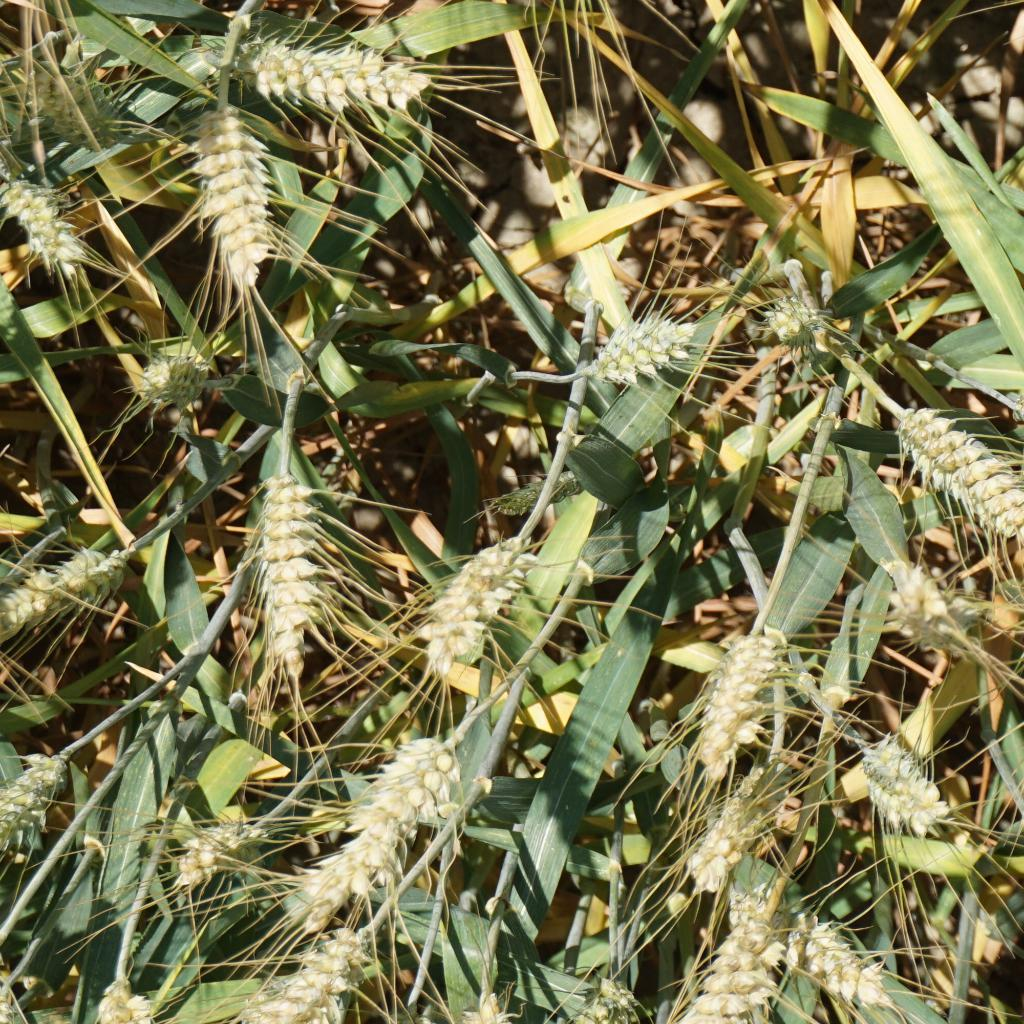0-0: (311, 747, 459, 903), (892, 401, 1024, 564), (680, 741, 805, 903), (689, 617, 794, 783), (194, 107, 282, 289), (240, 32, 431, 114), (247, 453, 314, 671), (771, 903, 896, 1005), (424, 532, 524, 650), (880, 556, 988, 664), (0, 553, 115, 649), (259, 934, 378, 1018), (855, 739, 953, 841), (0, 176, 96, 273), (587, 311, 706, 389), (705, 896, 777, 1024), (0, 734, 73, 841), (33, 64, 124, 147), (555, 960, 648, 1024), (174, 807, 257, 878), (750, 289, 832, 350), (493, 468, 584, 513), (147, 352, 216, 402), (457, 973, 521, 1024), (101, 973, 148, 1024), (1010, 382, 1024, 450)
